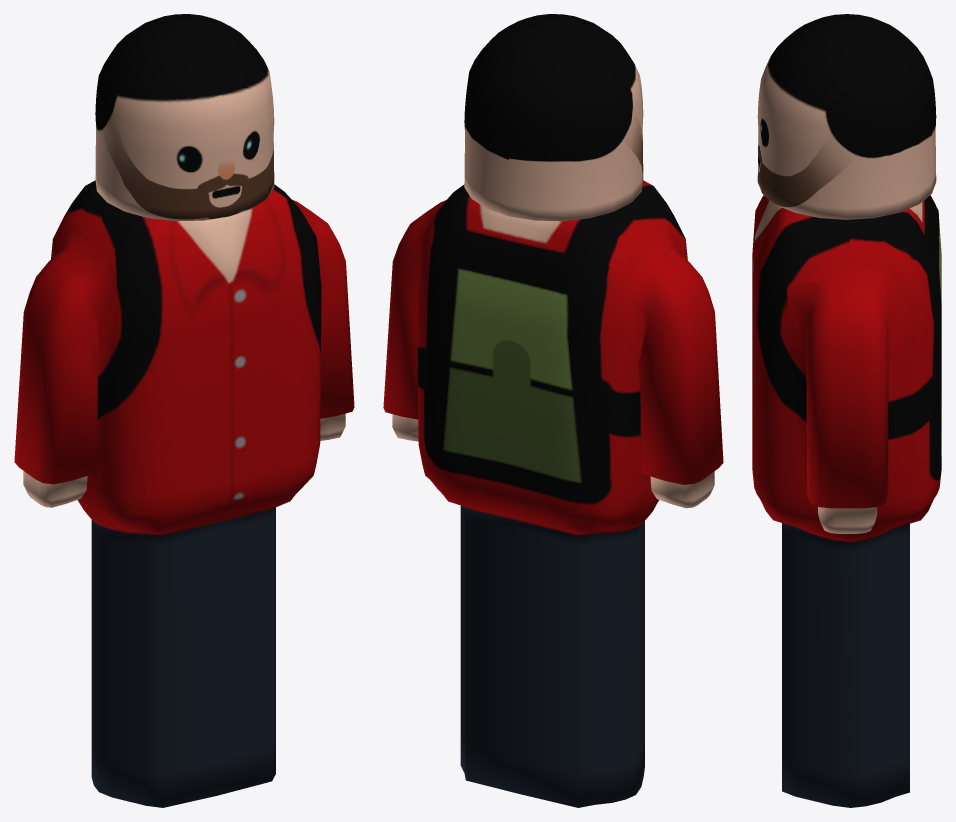
Rendered from male model.fbx.
3 renders of one model, left to right at view 1: azimuth 30°, elevation 25°; view 2: azimuth 150°, elevation 25°; view 3: azimuth 270°, elevation 25°, orthographic.
Visible parts, largest first — view 1: male; view 2: male; view 3: male.
Part boxes in pixels (box(x1,y1,x2,y2)): male: box(14, 14, 354, 807); male: box(383, 14, 723, 807); male: box(752, 14, 941, 807).
Size of the model in its own units: 380 by 867 by 200.
Materials: 1 (1 with a texture image).
